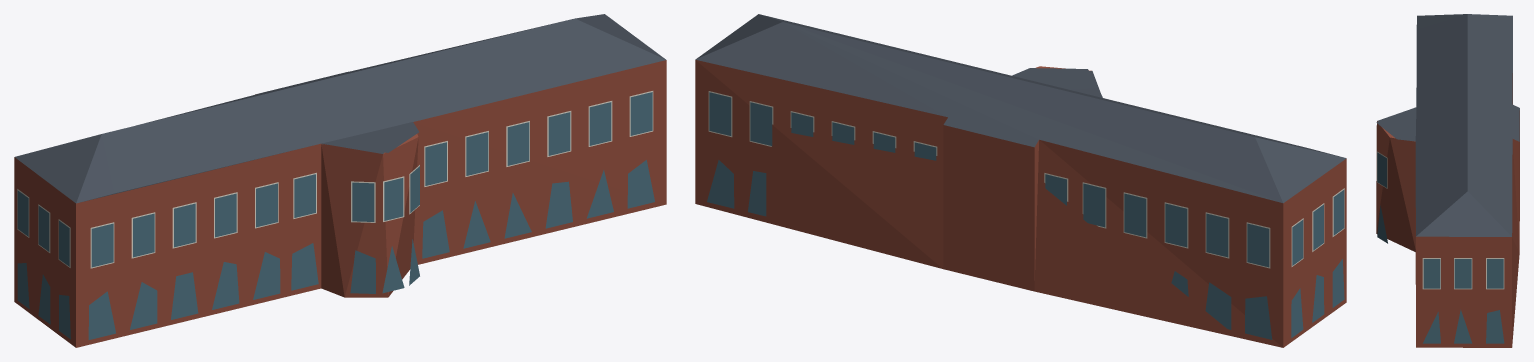
Rendered from groote-museum.lod2.glb.
The picture shows the model from 3 angles, left to right: view 1: azimuth 30°, elevation 25°; view 2: azimuth 150°, elevation 25°; view 3: azimuth 270°, elevation 25°; orthographic projection. The views are drawn at different scales.
Parts seen in each view (by area): view 1: lod2; view 2: lod2; view 3: lod2.
Boxes of the visible parts, x1,y1,x2,y2 form: lod2: (14, 14, 666, 347); lod2: (695, 14, 1346, 347); lod2: (1376, 14, 1519, 347).
Size of the model in its own units: 72.35 by 20.4 by 19.86.
